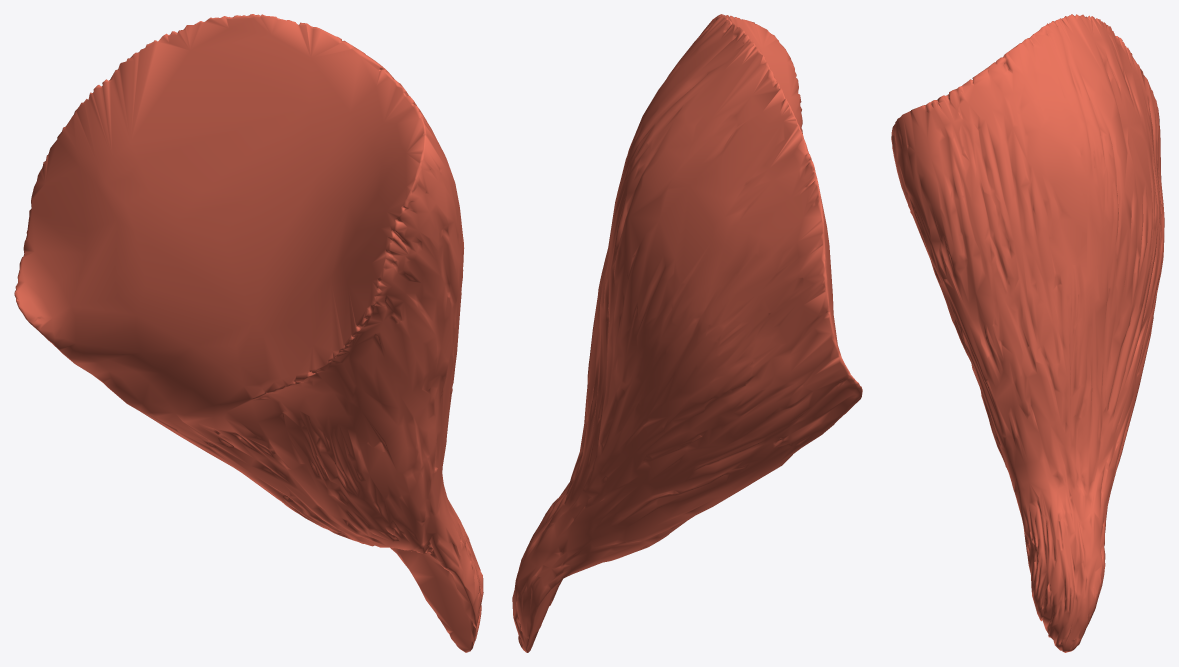
Rendered from gluteus-minimus.glb.
The picture shows the model from 3 angles, left to right: view 1: azimuth 30°, elevation 25°; view 2: azimuth 150°, elevation 25°; view 3: azimuth 270°, elevation 25°; orthographic projection. The views are drawn at different scales.
Visible parts, largest first — view 1: Gluteus minimus muscle.l; view 2: Gluteus minimus muscle.l; view 3: Gluteus minimus muscle.l.
Part boxes in pixels (x1,y1,x2,y2): Gluteus minimus muscle.l: (14,14,483,652); Gluteus minimus muscle.l: (512,14,862,652); Gluteus minimus muscle.l: (891,14,1164,652).
Bounding box in the file's own units: 0.0829 × 0.1345 × 0.0608.
